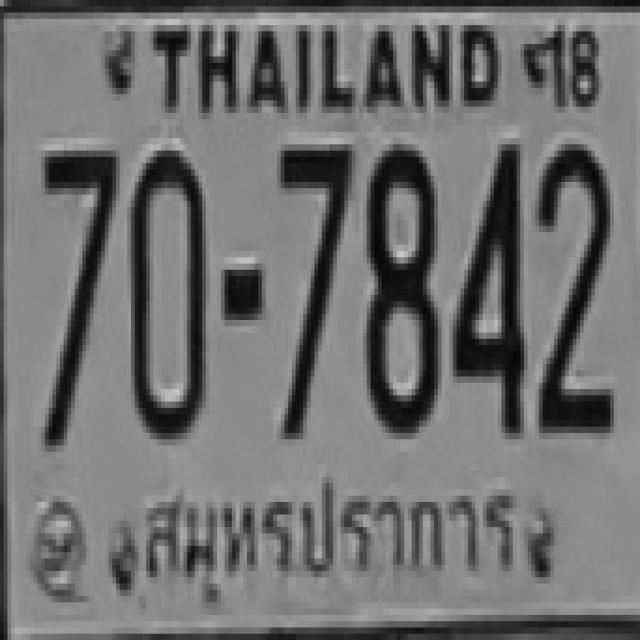0: (127, 144, 202, 433)
2: (534, 138, 608, 427)
4: (449, 138, 520, 427)
7: (41, 144, 116, 446), (277, 138, 348, 433), (41, 144, 116, 364)
8: (363, 138, 434, 427)
SamutPrakan: (128, 470, 523, 590)
